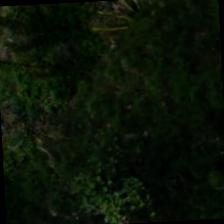Kelapa_Sawit: (76, 0, 170, 62)
